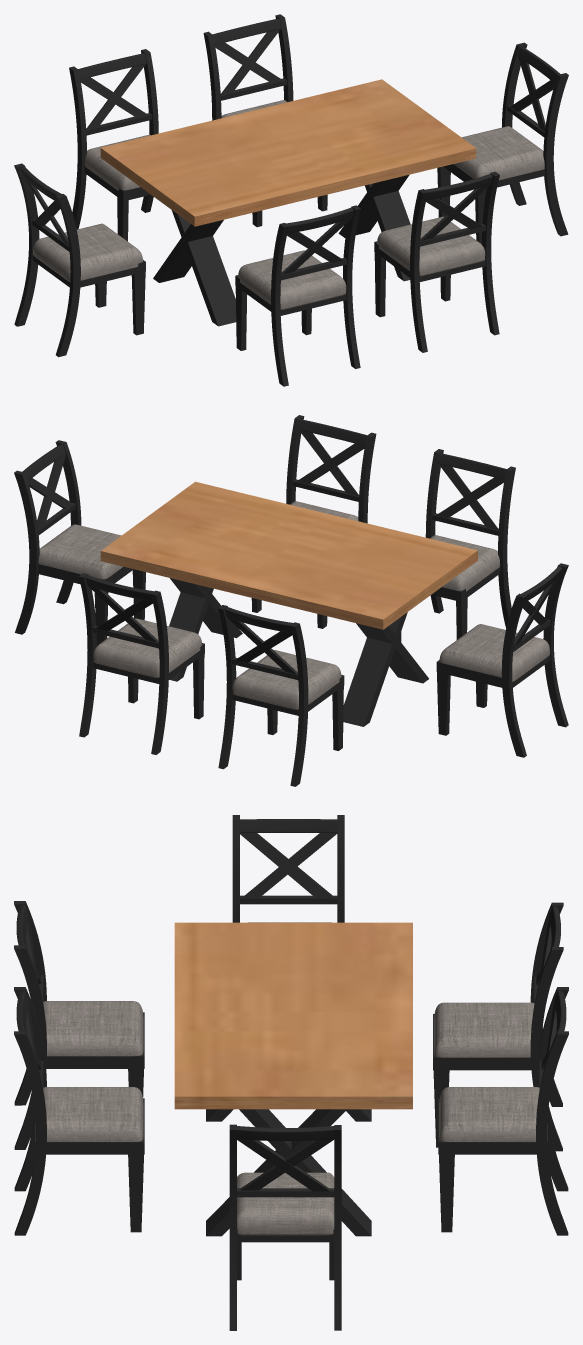
File: dinning_table.glb
3 renders of one model, top to bottom at view 1: azimuth 30°, elevation 25°; view 2: azimuth 150°, elevation 25°; view 3: azimuth 270°, elevation 25°, orthographic. The views are drawn at different scales.
Visible parts, largest first — view 1: Cube, Cube.025, Cube.067, Cube.081, Cube.011, Cube.086, Cube.015, Cube.001, Cube.057, Cube.071, Cube.016, Cube.029 (+33 smaller); view 2: Cube, Cube.025, Cube.053, Cube.039, Cube.085, Cube.011, Cube.016, Cube.002, Cube.029, Cube.043, Cube.015, Cube.030 (+33 smaller); view 3: Cube, Cube.081, Cube.039, Cube.053, Cube.067, Cube.011, Cube.044, Cube.058, Cube.087, Cube.030, Cube.072, Cube.001 (+23 smaller).
Part boxes in pixels (left/top/right/bottom): Cube: left=100, top=79, right=476, bottom=226; Cube.025: left=33, top=223, right=142, bottom=281; Cube.067: left=377, top=216, right=485, bottom=276; Cube.081: left=238, top=250, right=346, bottom=309; Cube.011: left=454, top=126, right=544, bottom=180; Cube.086: left=171, top=210, right=236, bottom=326; Cube.015: left=55, top=194, right=80, bottom=357; Cube.001: left=543, top=73, right=568, bottom=236; Cube.057: left=410, top=189, right=428, bottom=352; Cube.071: left=271, top=223, right=289, bottom=386; Cube.016: left=14, top=163, right=39, bottom=326; Cube.029: left=69, top=66, right=86, bottom=229; Cube: left=100, top=481, right=477, bottom=629; Cube.025: left=439, top=624, right=549, bottom=681; Cube.053: left=93, top=618, right=202, bottom=677; Cube.039: left=232, top=650, right=341, bottom=709; Cube.085: left=343, top=612, right=407, bottom=726; Cube.011: left=38, top=524, right=122, bottom=579; Cube.016: left=501, top=593, right=526, bottom=757; Cube.002: left=14, top=470, right=39, bottom=634; Cube.029: left=290, top=622, right=308, bottom=786; Cube.043: left=151, top=590, right=168, bottom=754; Cube.015: left=543, top=563, right=568, bottom=727; Cube.030: left=218, top=605, right=236, bottom=769; Cube: left=174, top=922, right=412, bottom=1109; Cube.081: left=43, top=1001, right=143, bottom=1056; Cube.039: left=434, top=1002, right=534, bottom=1057; Cube.053: left=439, top=1087, right=547, bottom=1141; Cube.067: left=35, top=1087, right=143, bottom=1141; Cube.011: left=237, top=1172, right=334, bottom=1235; Cube.044: left=536, top=1031, right=568, bottom=1235; Cube.058: left=14, top=1031, right=46, bottom=1235; Cube.087: left=239, top=1109, right=371, bottom=1236; Cube.030: left=530, top=947, right=563, bottom=1151; Cube.072: left=14, top=945, right=46, bottom=1149; Cube.001: left=229, top=1124, right=236, bottom=1330.
Size of the model in its own units: 40.48 by 12.15 by 30.23.
4 materials, 2 textured.
